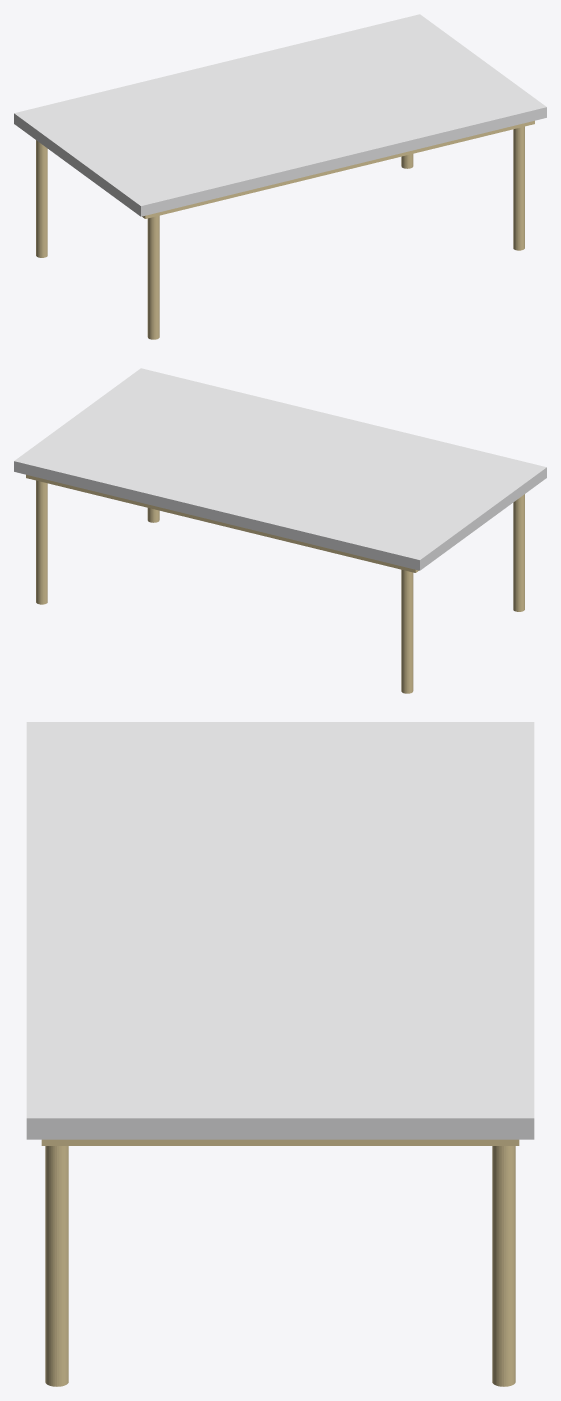
File: COFF-004.glb
The picture shows the model from 3 angles, top to bottom: view 1: azimuth 30°, elevation 25°; view 2: azimuth 150°, elevation 25°; view 3: azimuth 270°, elevation 25°; orthographic projection. The views are drawn at different scales.
Visible parts, largest first — view 1: Cube, Cylinder, Cube.001, Cylinder.002, Cylinder.001; view 2: Cube, Cylinder.001, Cube.001, Cylinder.003, Cylinder; view 3: Cube, Cylinder.002, Cylinder.003, Cube.001.
Part boxes in pixels (bbox=[...]): Cube: bbox=[14, 14, 546, 216]; Cylinder: bbox=[147, 215, 159, 339]; Cube.001: bbox=[142, 120, 534, 218]; Cylinder.002: bbox=[513, 126, 524, 250]; Cylinder.001: bbox=[36, 140, 47, 257]; Cube: bbox=[14, 368, 546, 570]; Cylinder.001: bbox=[401, 569, 413, 693]; Cube.001: bbox=[26, 474, 418, 572]; Cylinder.003: bbox=[36, 480, 47, 604]; Cylinder: bbox=[513, 494, 524, 611]; Cube: bbox=[26, 722, 534, 1139]; Cylinder.002: bbox=[45, 1146, 68, 1386]; Cylinder.003: bbox=[492, 1146, 515, 1386]; Cube.001: bbox=[41, 1139, 519, 1145].
Size of the model in its own units: 1.2 by 0.4 by 0.65.
